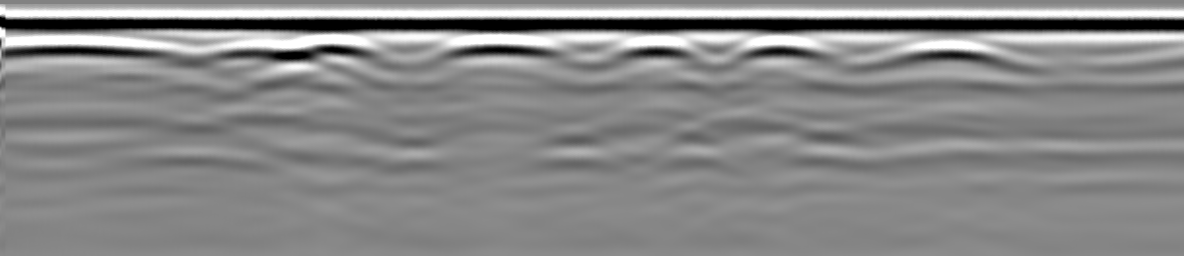steel: (2, 35, 194, 62), (202, 34, 387, 60), (867, 38, 1032, 66), (424, 35, 581, 61), (725, 36, 848, 62), (601, 35, 708, 62)
